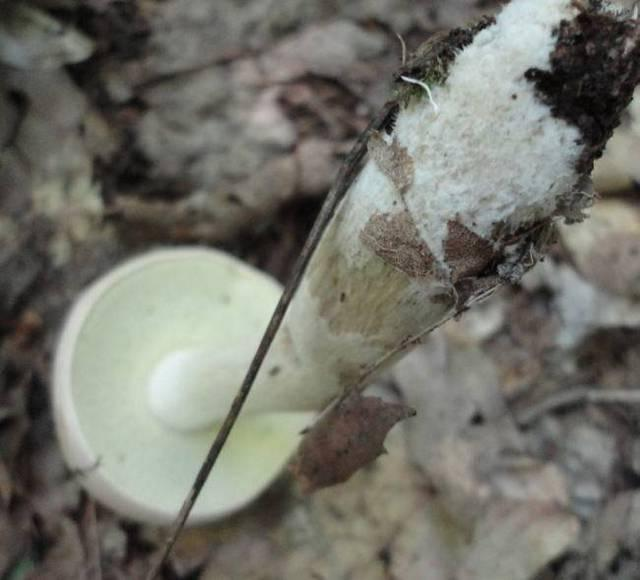Edible Mushroom: (49, 0, 639, 528)
